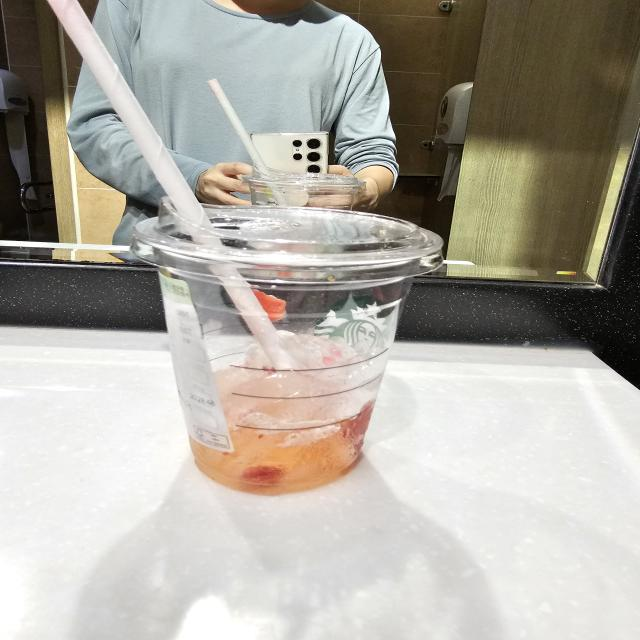cup: (122, 187, 451, 499)
